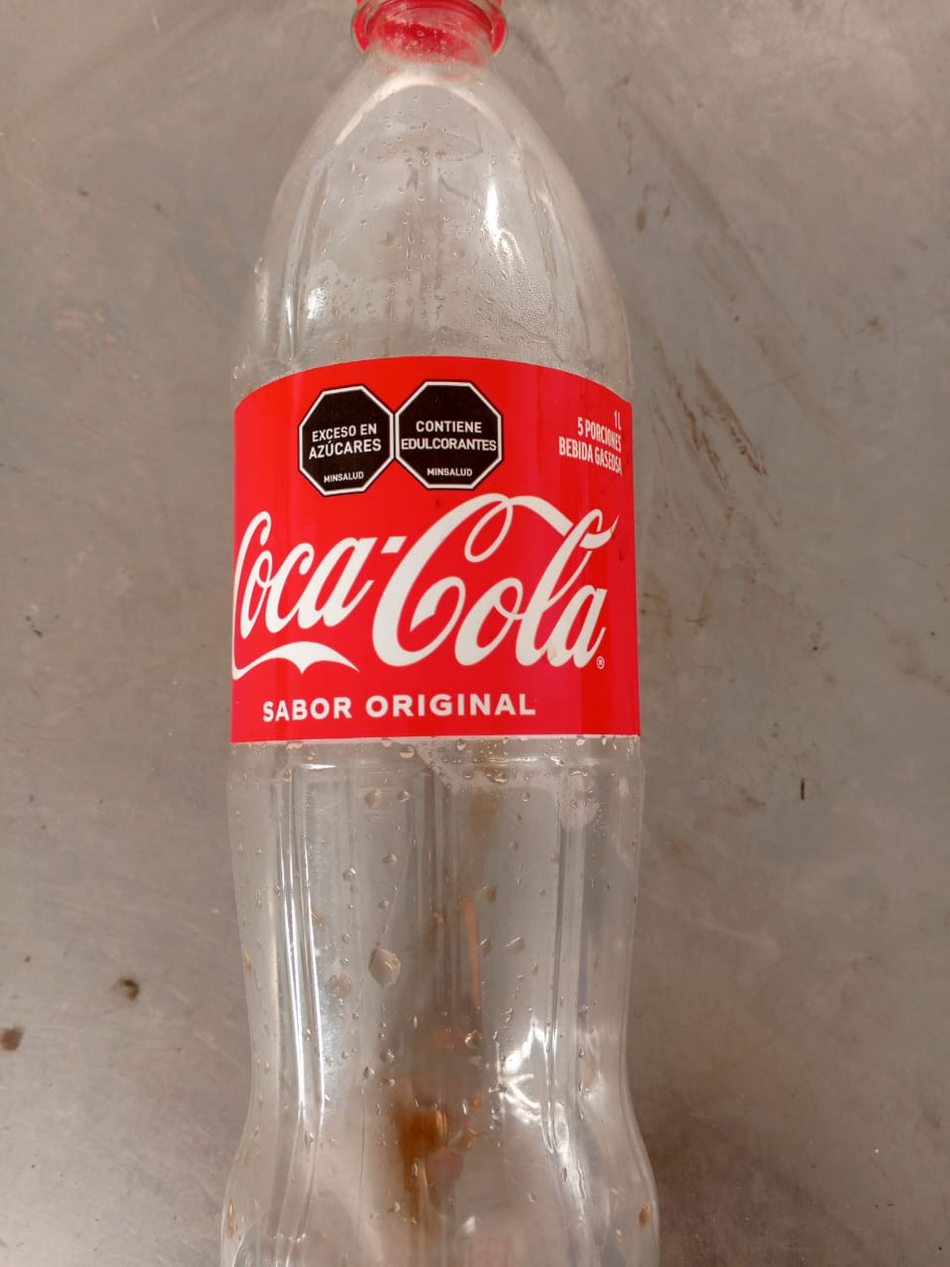Plastico: (221, 0, 662, 1267)
